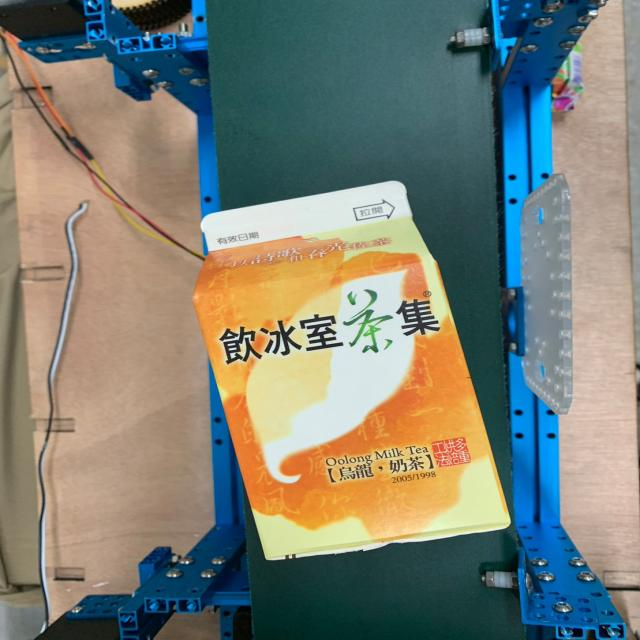non_white_jug: (166, 174, 514, 558)
